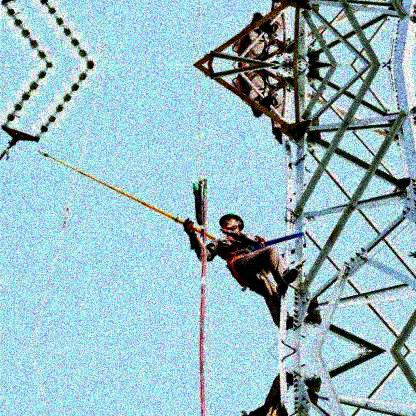helmet: (218, 213, 244, 236)
